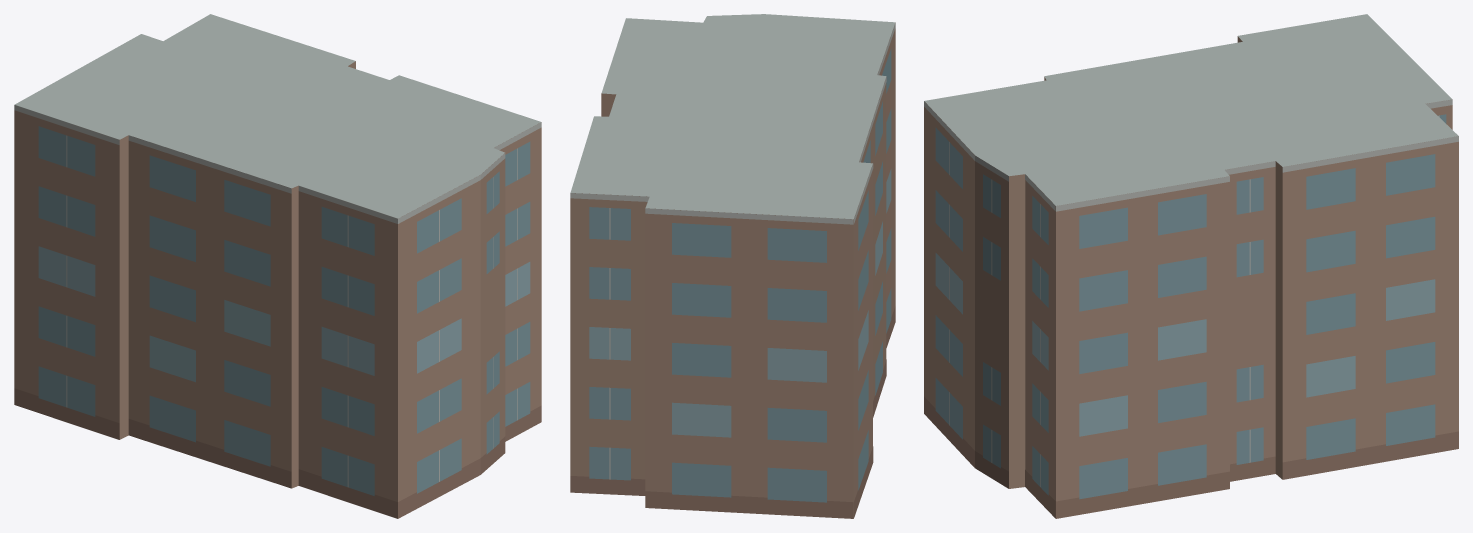
Rendered from survey-upis-32958818.glb.
3 views of the same model, side by side, from view 1: azimuth 30°, elevation 25°; view 2: azimuth 150°, elevation 25°; view 3: azimuth 270°, elevation 25° (orthographic). The views are drawn at different scales.
Visible parts, largest first — view 1: survey-upis-32958818.tmp; view 2: survey-upis-32958818.tmp; view 3: survey-upis-32958818.tmp.
Part boxes in pixels (bbox=[...]): survey-upis-32958818.tmp: bbox=[14, 14, 541, 518]; survey-upis-32958818.tmp: bbox=[570, 14, 895, 518]; survey-upis-32958818.tmp: bbox=[924, 14, 1458, 518].
Bounding box in the file's own units: 17.68 × 13.42 × 20.8.
